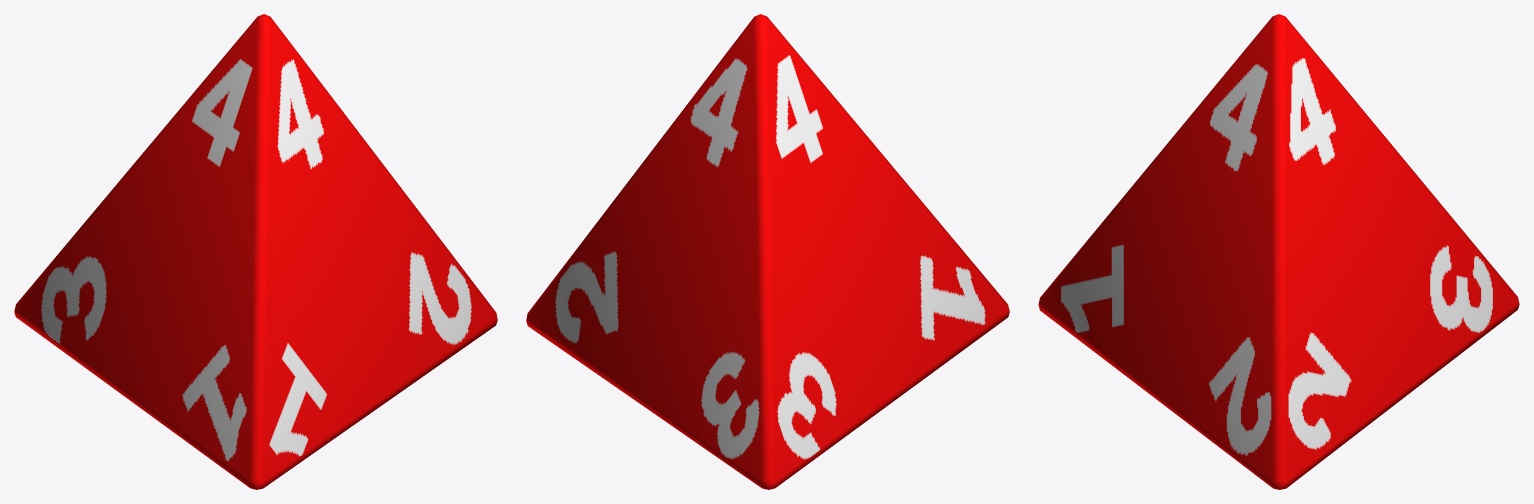
3 renders of one model, left to right at view 1: azimuth 30°, elevation 25°; view 2: azimuth 150°, elevation 25°; view 3: azimuth 270°, elevation 25°, orthographic.
Visible parts, largest first — view 1: 4Red_4Red_0; view 2: 4Red_4Red_0; view 3: 4Red_4Red_0.
Part boxes in pixels (<box>): 4Red_4Red_0: <box>14,14,497,489</box>; 4Red_4Red_0: <box>526,14,1009,489</box>; 4Red_4Red_0: <box>1038,14,1519,489</box>.
Bounding box in the file's own units: 1.35 × 1.3 × 1.55.
1 material, 1 textured.
